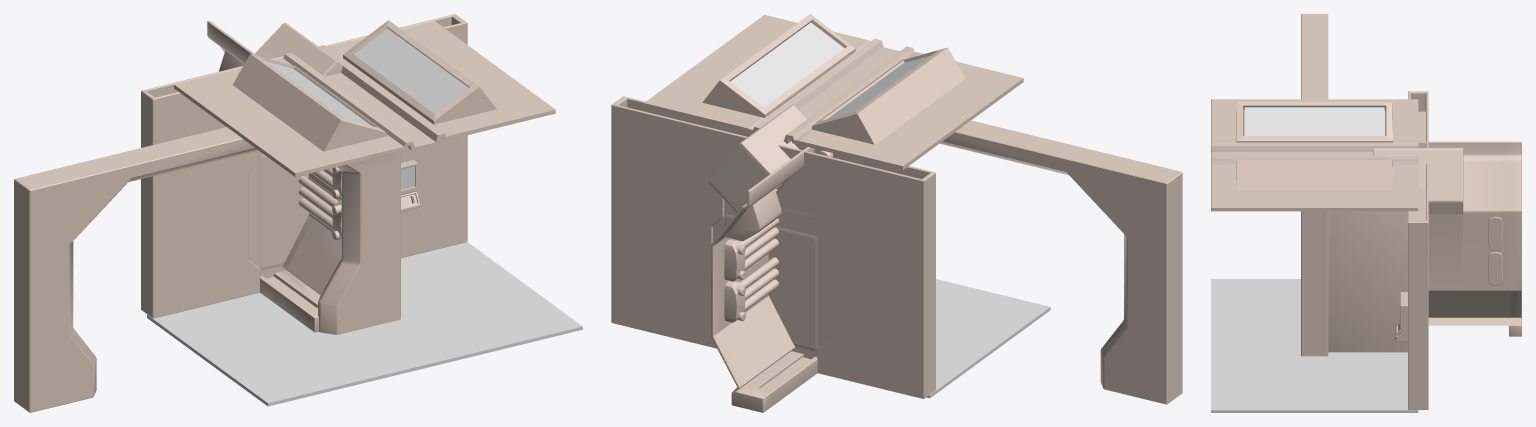
The model's file is Ship.fbx.
3 renders of one model, left to right at view 1: azimuth 30°, elevation 25°; view 2: azimuth 150°, elevation 25°; view 3: azimuth 270°, elevation 25°, orthographic. The views are drawn at different scales.
Parts seen in each view (by area): view 1: Connector, Ceiling, Ground, Wall_Door, Wall, Door, Wall_Short, Wall_Pipes, Wall_DoorConsole; view 2: Wall_Door, Ceiling, Connector, Wall, Ground, Door, Wall_Pipes, Wall_Holders, Wall_Vents; view 3: Ceiling, Ground, Wall, Wall_Short, Connector, Wall_Door, Wall_Holders, Wall_DoorConsole.
Boxes of the visible parts, box(x1,y1,x2,y2) form: Connector: box(14, 127, 400, 412); Ceiling: box(174, 20, 555, 176); Ground: box(147, 242, 582, 406); Wall_Door: box(141, 14, 467, 318); Wall: box(207, 20, 342, 332); Door: box(249, 152, 306, 278); Wall_Short: box(260, 177, 341, 331); Wall_Pipes: box(298, 168, 338, 230); Wall_DoorConsole: box(401, 160, 420, 211); Wall_Door: box(611, 96, 935, 398); Ceiling: box(644, 14, 1023, 169); Connector: box(940, 120, 1182, 404); Wall: box(708, 105, 817, 412); Ground: box(926, 279, 1050, 398); Door: box(771, 208, 828, 358); Wall_Pipes: box(739, 218, 779, 311); Wall_Holders: box(724, 239, 745, 322); Wall_Vents: box(725, 189, 781, 241); Ceiling: box(1211, 99, 1418, 211); Ground: box(1211, 279, 1418, 412); Wall: box(1373, 141, 1521, 336); Wall_Short: box(1328, 211, 1407, 352); Connector: box(1301, 14, 1328, 356); Wall_Door: box(1408, 91, 1428, 409); Wall_Holders: box(1488, 216, 1502, 286); Wall_DoorConsole: box(1395, 292, 1407, 341).
Bounding box in the file's own units: 954 × 462 × 600.
